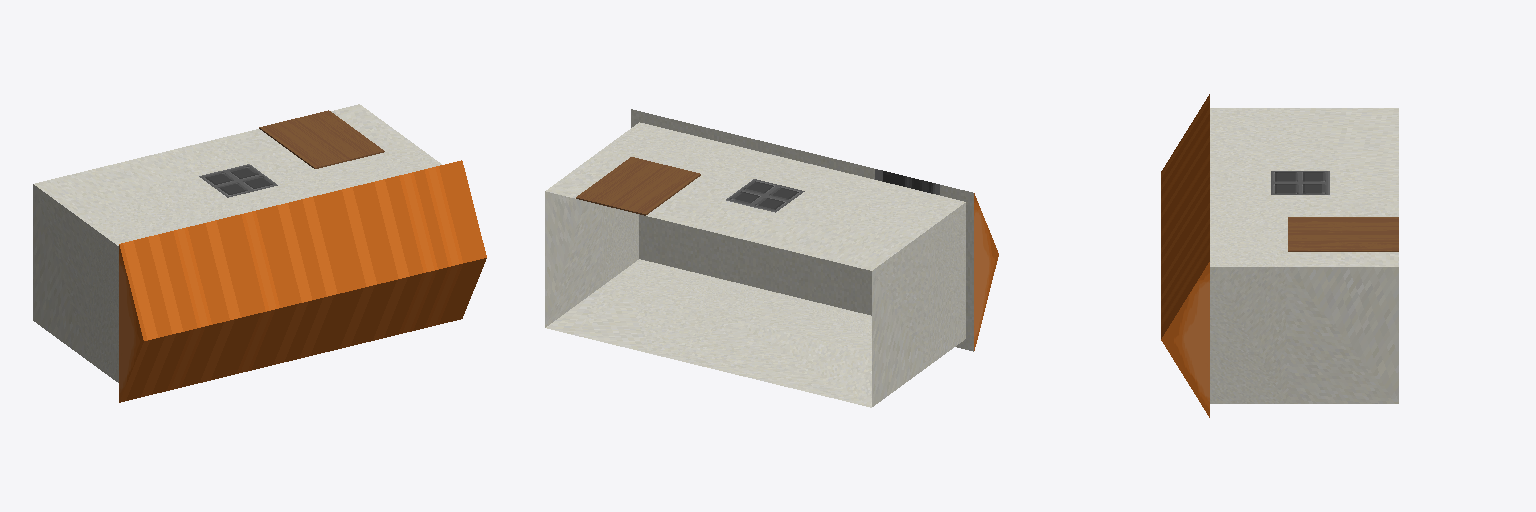
3 renders of one model, left to right at view 1: azimuth 30°, elevation 25°; view 2: azimuth 150°, elevation 25°; view 3: azimuth 270°, elevation 25°, orthographic.
Visible parts, largest first — view 1: Plane, Door, Window; view 2: Plane, Door, Window; view 3: Plane, Door, Window.
Boxes of the visible parts, x1=… form: Plane: x1=33, y1=104, x2=486, y2=402; Door: x1=259, y1=110, x2=384, y2=168; Window: x1=199, y1=164, x2=277, y2=197; Plane: x1=545, y1=109, x2=998, y2=407; Door: x1=576, y1=157, x2=700, y2=215; Window: x1=726, y1=179, x2=804, y2=212; Plane: x1=1161, y1=94, x2=1398, y2=417; Door: x1=1288, y1=217, x2=1398, y2=251; Window: x1=1271, y1=171, x2=1329, y2=194.
Size of the model in its own units: 5.25 by 2.32 by 3.16.
Materials: 3 (3 with a texture image).